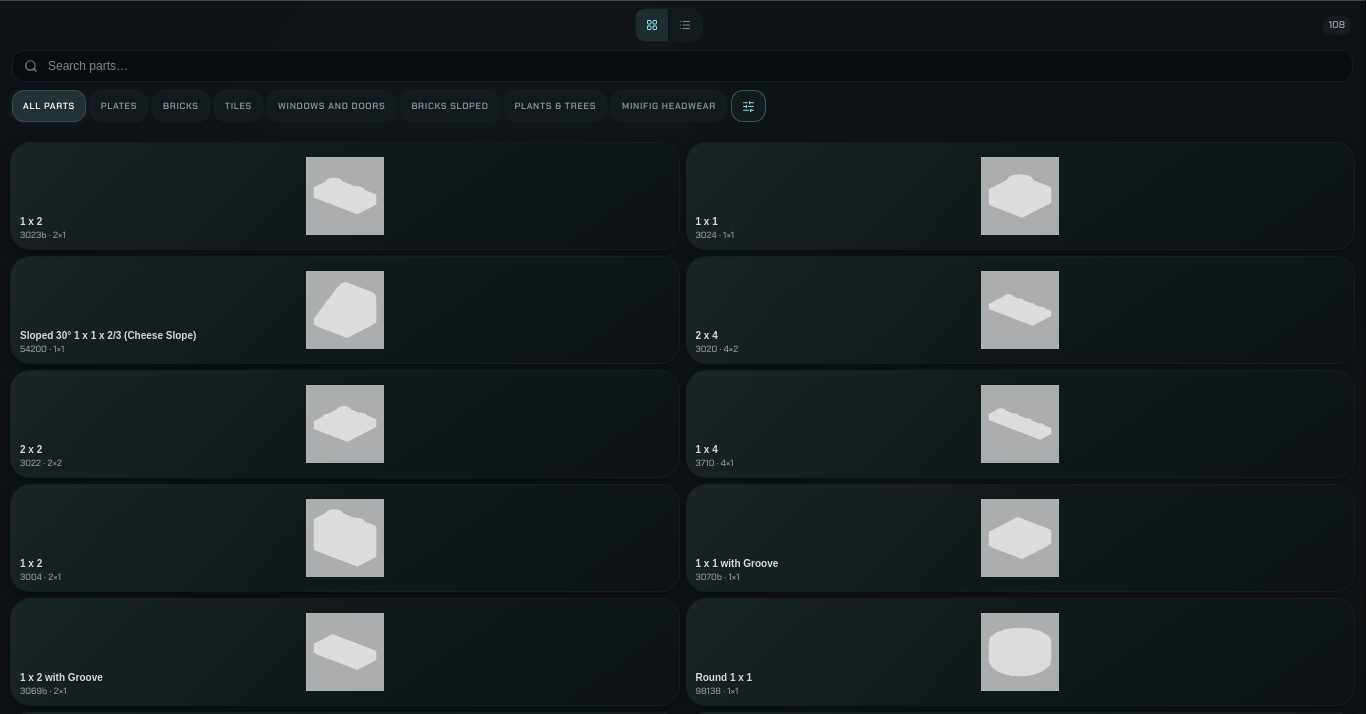
palette › exposes facets for size, connector family and colour availability
The width and height of the screenshot is (1366, 714).
Click the button named "FILTERS" at (748, 106), box [731,90,766,122]
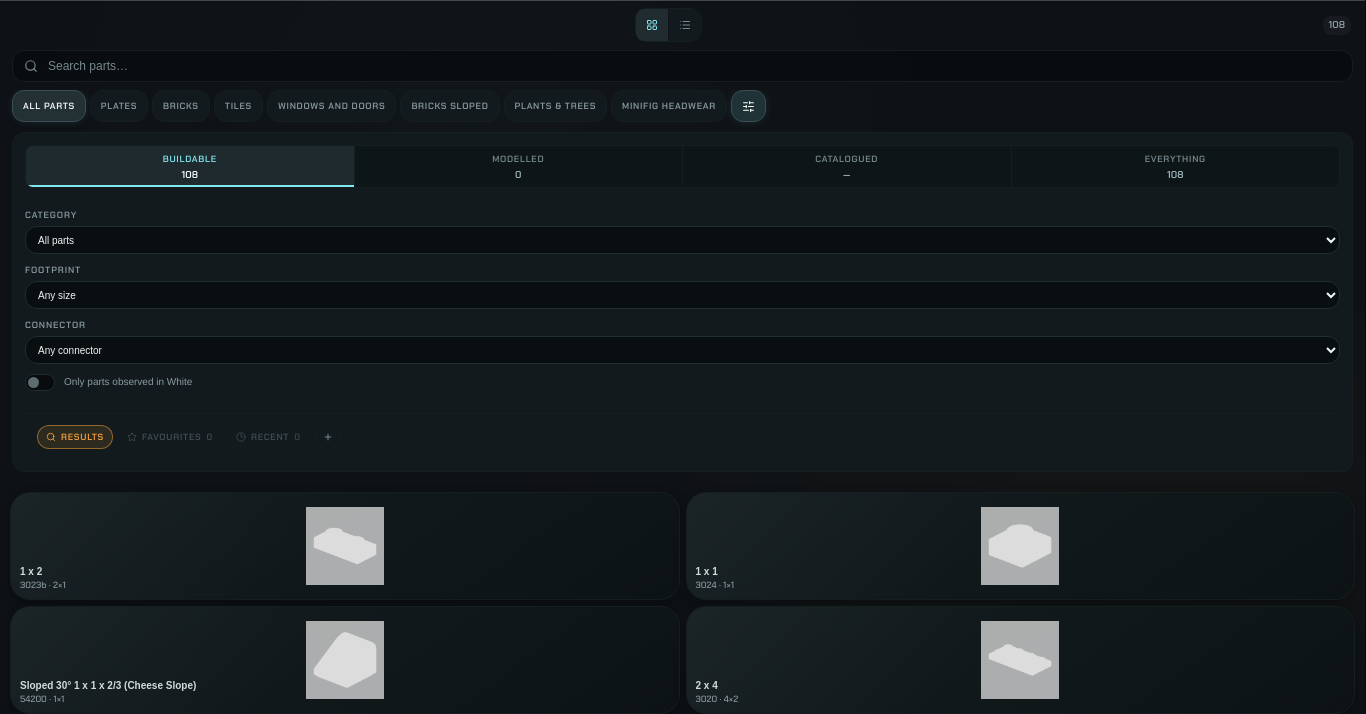
Check: the dropdown labelled "Footprint" is shown, box [25,281,1340,309]
Check: the dropdown labelled "Connector" is shown, box [25,336,1340,364]
Check: the switch is shown, box [25,374,55,391]
